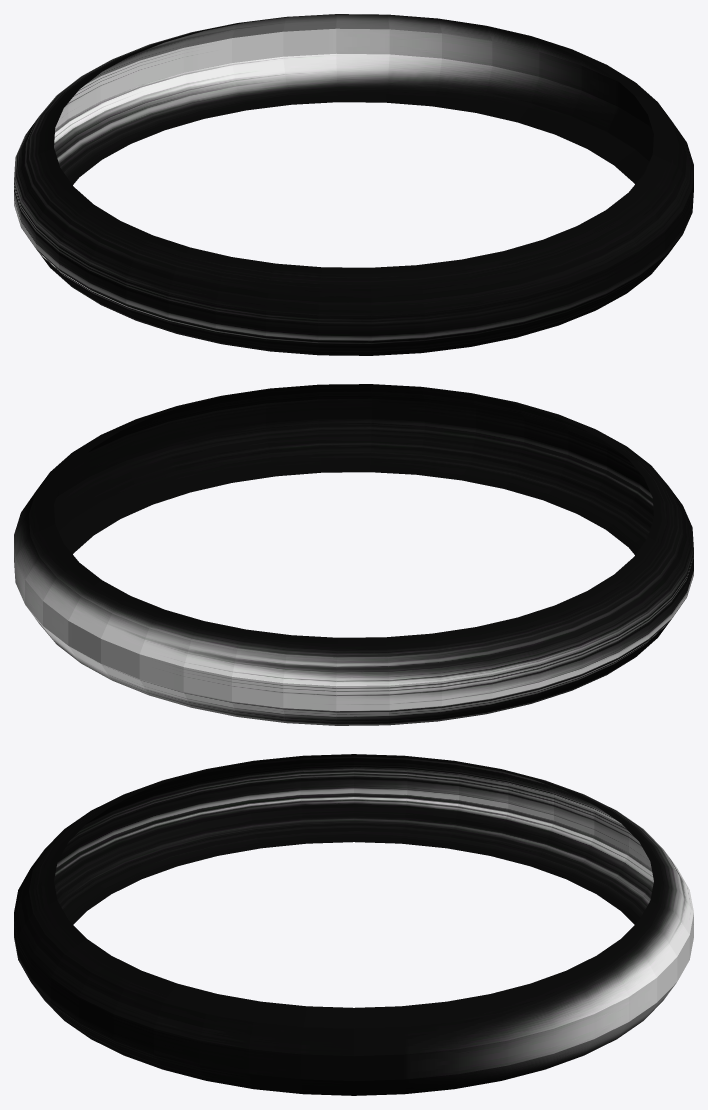
Rendered from RasenganRing.fbx.
The picture shows the model from 3 angles, top to bottom: view 1: azimuth 30°, elevation 25°; view 2: azimuth 150°, elevation 25°; view 3: azimuth 270°, elevation 25°; orthographic projection.
Parts seen in each view (by area): view 1: SM_EFF_Ring_14.mo; view 2: SM_EFF_Ring_14.mo; view 3: SM_EFF_Ring_14.mo.
Part boxes in pixels (x1,y1,x2,y2): SM_EFF_Ring_14.mo: (14,14,693,355); SM_EFF_Ring_14.mo: (14,384,693,725); SM_EFF_Ring_14.mo: (14,754,693,1095).
Bounding box in the file's own units: 94.45 × 13.46 × 94.45.
